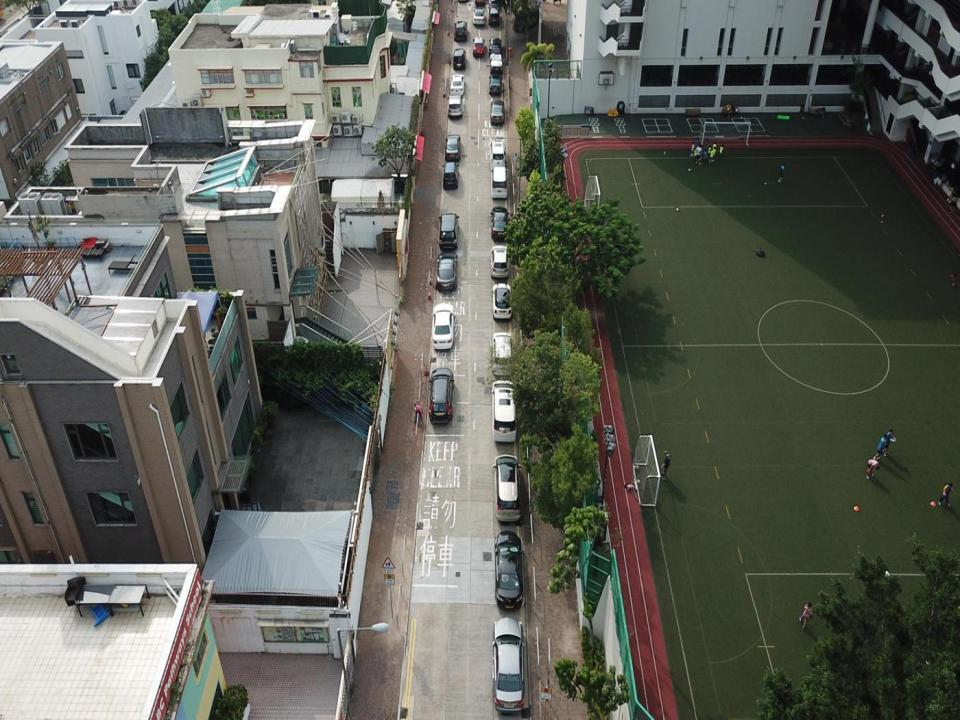car: (491, 616, 525, 712), (494, 530, 524, 609), (432, 304, 453, 351), (493, 332, 513, 375), (436, 250, 456, 290), (493, 282, 512, 320), (490, 206, 508, 241), (490, 246, 510, 277), (445, 133, 461, 162), (489, 68, 501, 97), (450, 73, 464, 97), (488, 52, 503, 73), (488, 2, 501, 26), (473, 34, 485, 59), (492, 100, 505, 122), (473, 6, 486, 26), (488, 36, 501, 54)
van: (493, 455, 520, 520), (491, 380, 518, 441), (429, 369, 453, 424), (438, 213, 459, 248), (489, 137, 505, 168), (492, 166, 507, 198), (442, 160, 458, 189), (448, 94, 462, 118), (453, 48, 466, 70), (455, 20, 467, 42)
